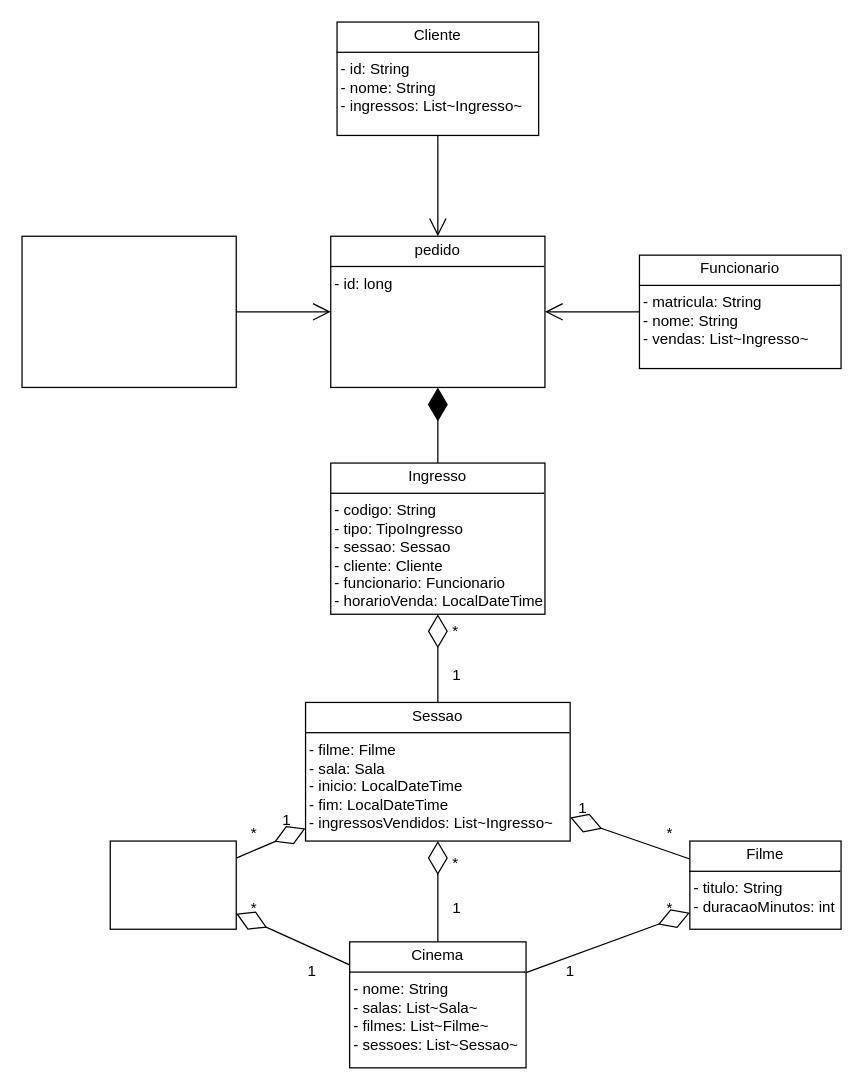
The diagram is 863 pixels wide and 1090 high, and some of its shapes have lost their labels. Here are the shapes that lost their labels. From the top down, the centre of each, then its label:
[128,311]: lanche - id: long
[172,884]: Sala - nome: String - capacidade: int
